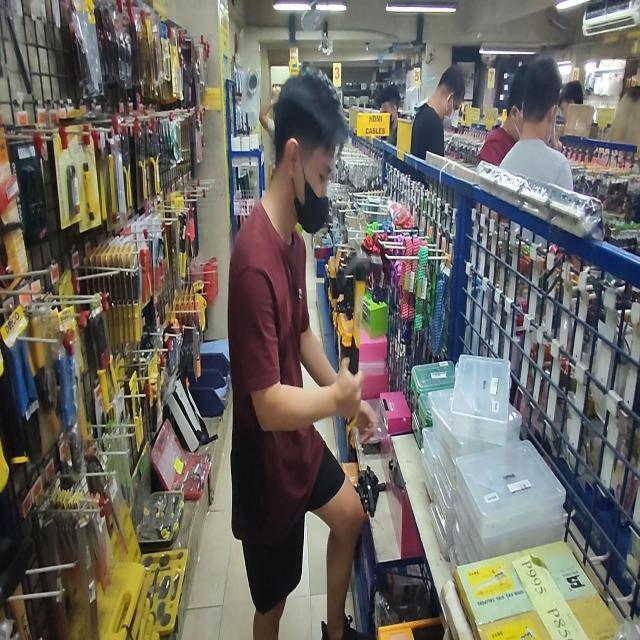hammer: (342, 255, 382, 428)
